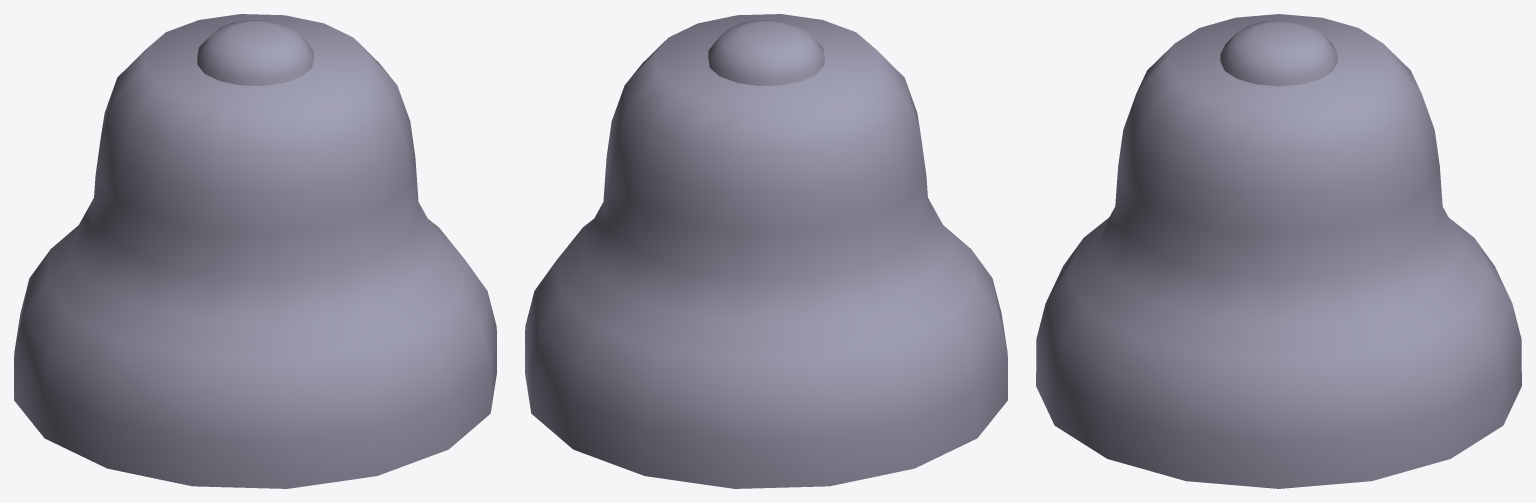
Rendered from Bell_Combined.glb.
The picture shows the model from 3 angles, left to right: view 1: azimuth 30°, elevation 25°; view 2: azimuth 150°, elevation 25°; view 3: azimuth 270°, elevation 25°; orthographic projection.
Parts seen in each view (by area): view 1: Cylinder.019; view 2: Cylinder.019; view 3: Cylinder.019.
Boxes of the visible parts, box(x1,y1,x2,y2) form: Cylinder.019: box(14, 14, 496, 488); Cylinder.019: box(525, 14, 1007, 488); Cylinder.019: box(1036, 14, 1521, 488).
Bounding box in the file's own units: 3.45 × 3.13 × 3.45.
